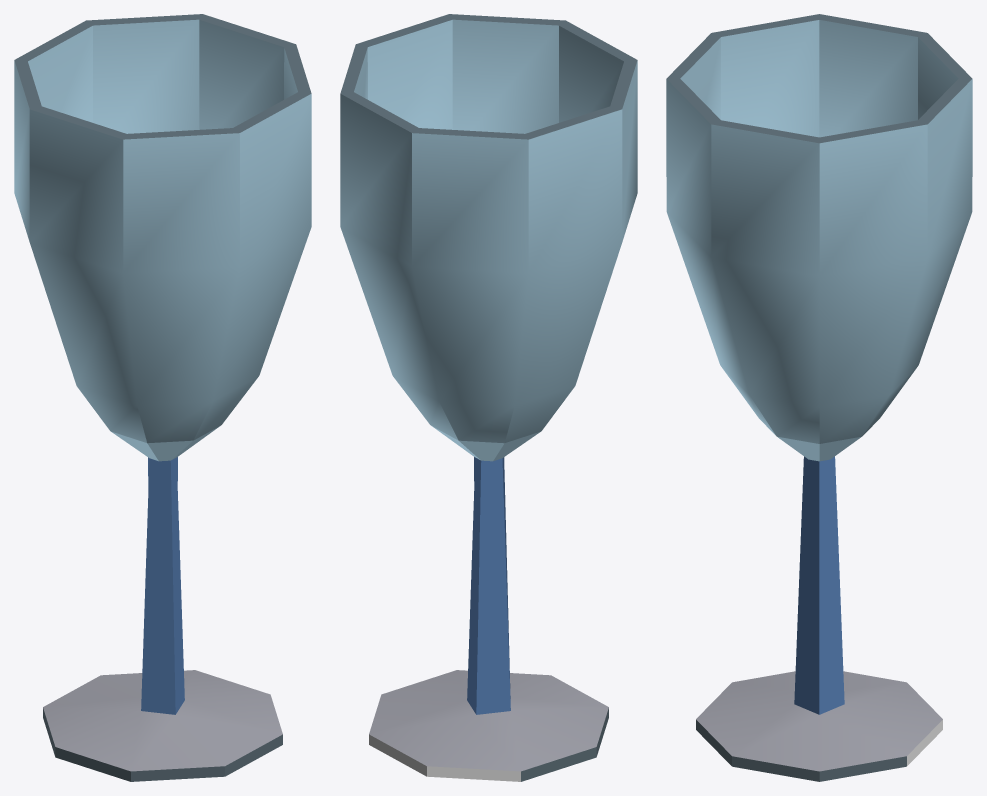
The model's file is Wine_Glass.fbx.
The picture shows the model from 3 angles, left to right: view 1: azimuth 30°, elevation 25°; view 2: azimuth 150°, elevation 25°; view 3: azimuth 270°, elevation 25°; orthographic projection.
Parts seen in each view (by area): view 1: Wine_Goblet; view 2: Wine_Goblet; view 3: Wine_Goblet.
Boxes of the visible parts, left/top/right/bottom form: Wine_Goblet: left=14, top=14, right=311, bottom=781; Wine_Goblet: left=340, top=14, right=637, bottom=781; Wine_Goblet: left=666, top=14, right=972, bottom=781.
Size of the model in its own units: 18.28 by 42.9 by 18.28.
